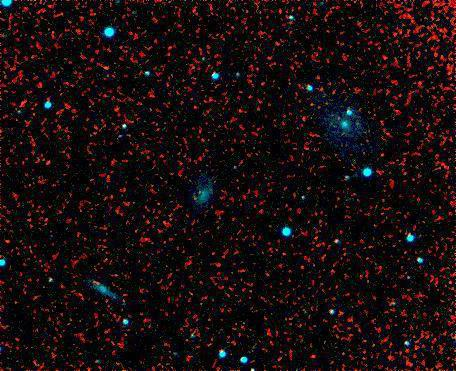star: (91, 52, 121, 82)
